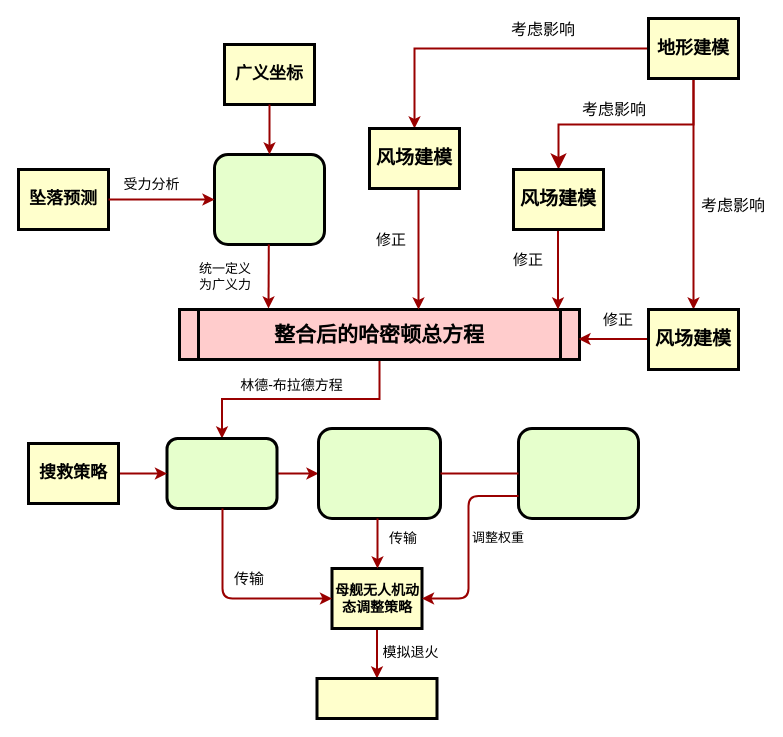
This 783x737 diagram has some shape labels left out. Here are the shapes that lost their labels. From the top down, the centre of each, then its label:
At point 269,199: "系统建模 定义保守力 与非保守力".
At point 221,473: "初始概率图".
At point 379,473: "贝叶斯更新 根据搜救结果 实时更新概率".
At point 578,473: "三种传感器 根据合适调节 调整传感器权重".
At point 376,698: "多机协同搜救".
